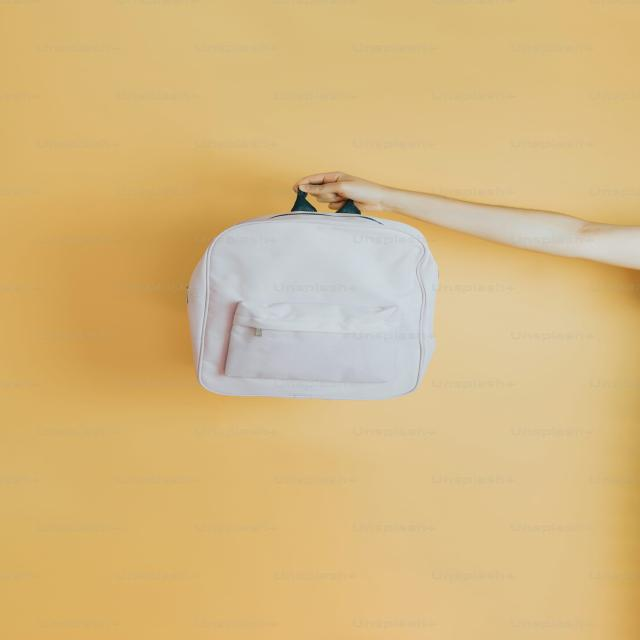backpack: (187, 187, 440, 402)
